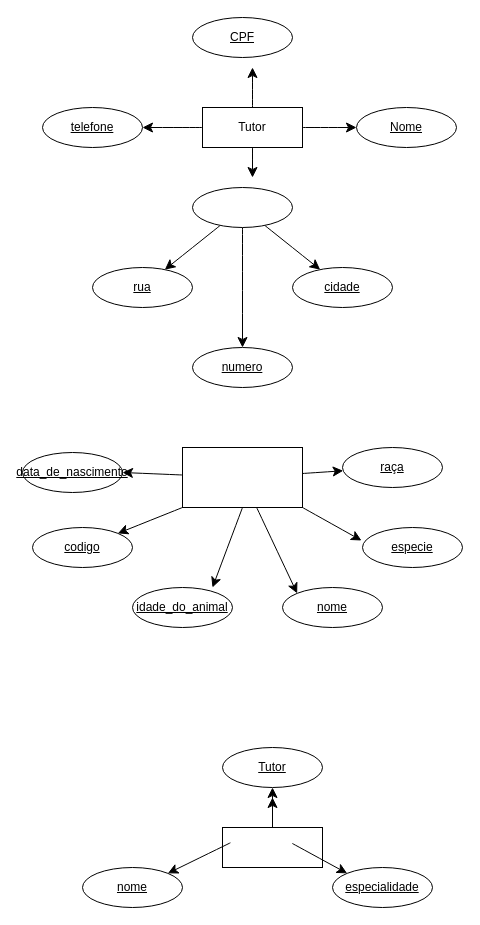
This 480x925 diagram has some shape labels left out. Each missing label, with the centre of its shape:
Animal: [242,477]
endereço: [242,207]
Veterinarios: [272,847]
